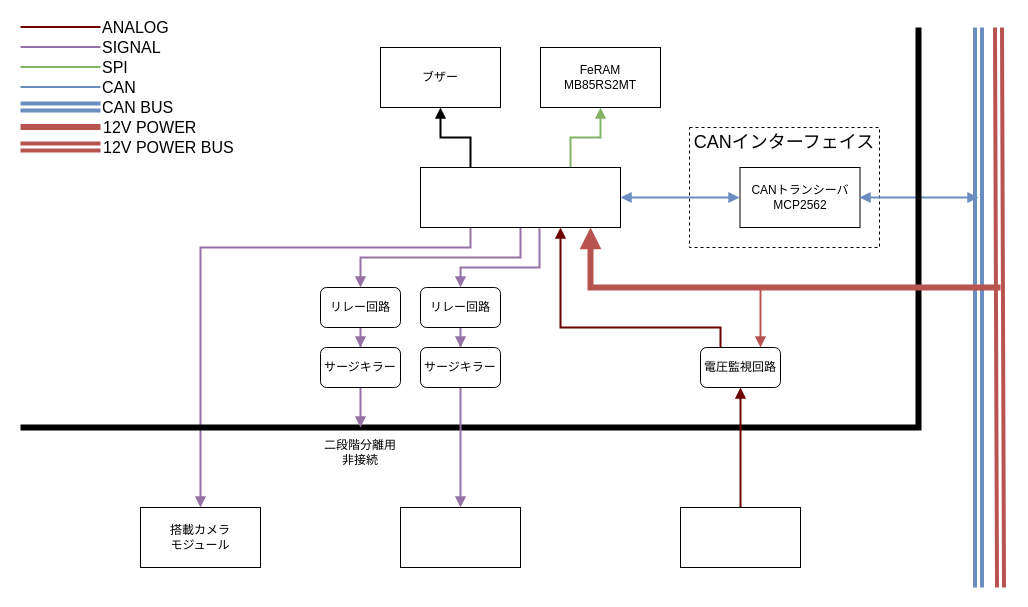
This 1028x607 diagram has some shape labels left out. Here are the shapes that lost their labels. From the top down, the centre of each, then its label:
At [520,197]: "Nucleo STM32F303K8".
At [460,537]: "無火薬式分離機構 不知火Ⅲ".
At [740,537]: "電源系".
